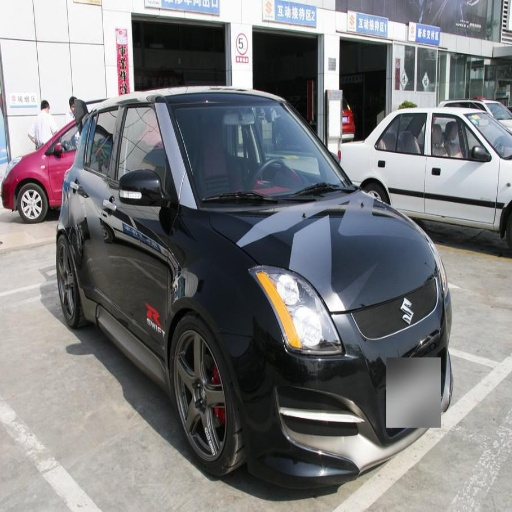front_bumper: (246, 284, 447, 485)
front_right_door: (103, 106, 171, 356), (433, 115, 489, 190)
front_right_light: (249, 266, 343, 354)
